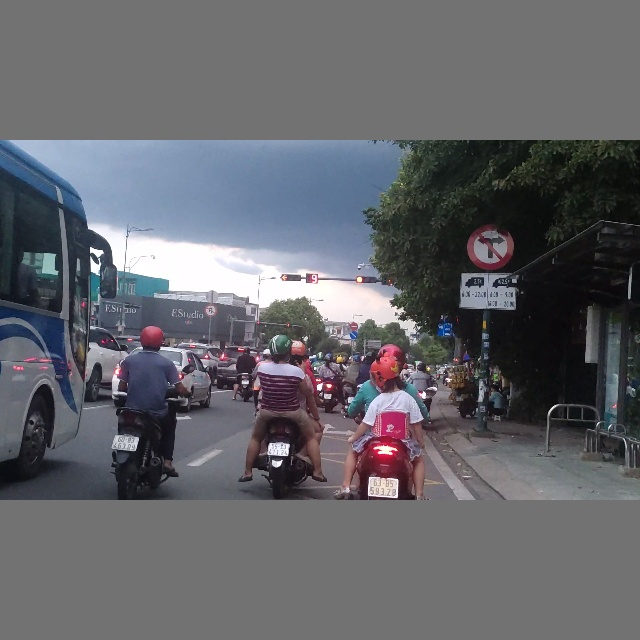P.102: (349, 322, 358, 331)
P.124a*: (204, 304, 217, 317)
P.137: (466, 224, 514, 271)
R.302a: (349, 331, 358, 340)
S.505a*Xe tai: (459, 272, 517, 311)
